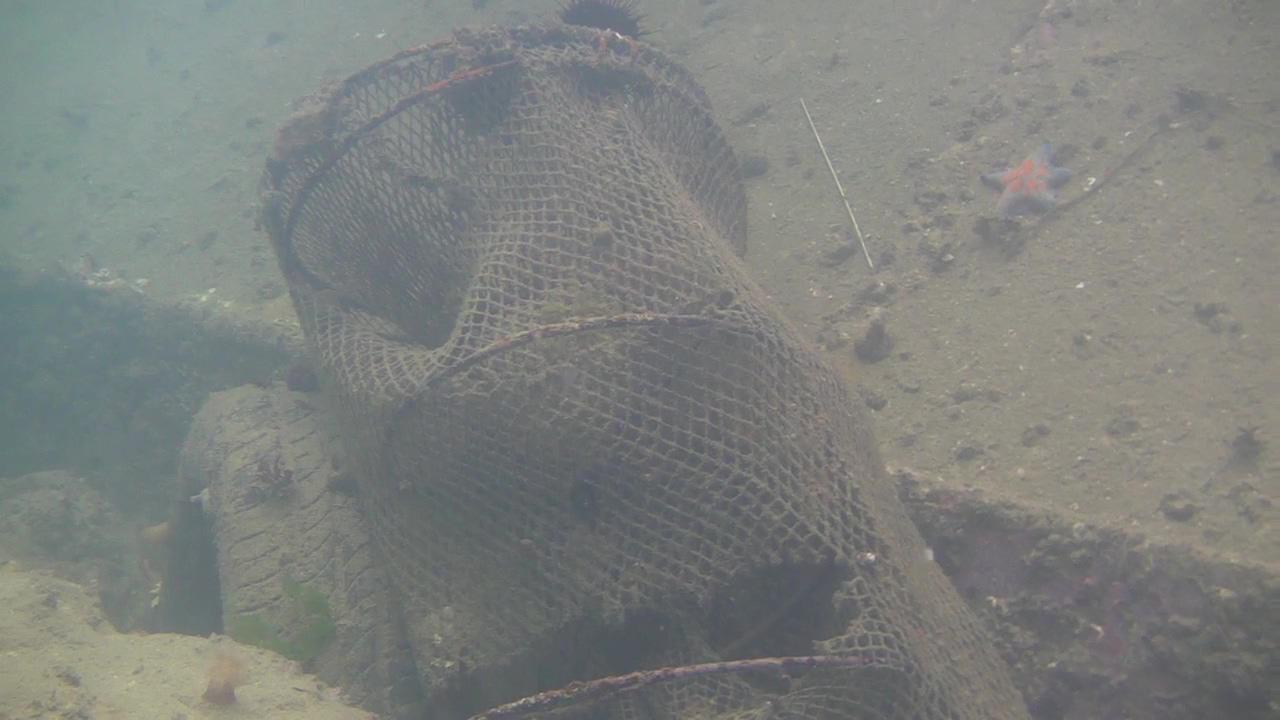spring fish trap: (253, 20, 1033, 720)
tire: (156, 384, 422, 720)
